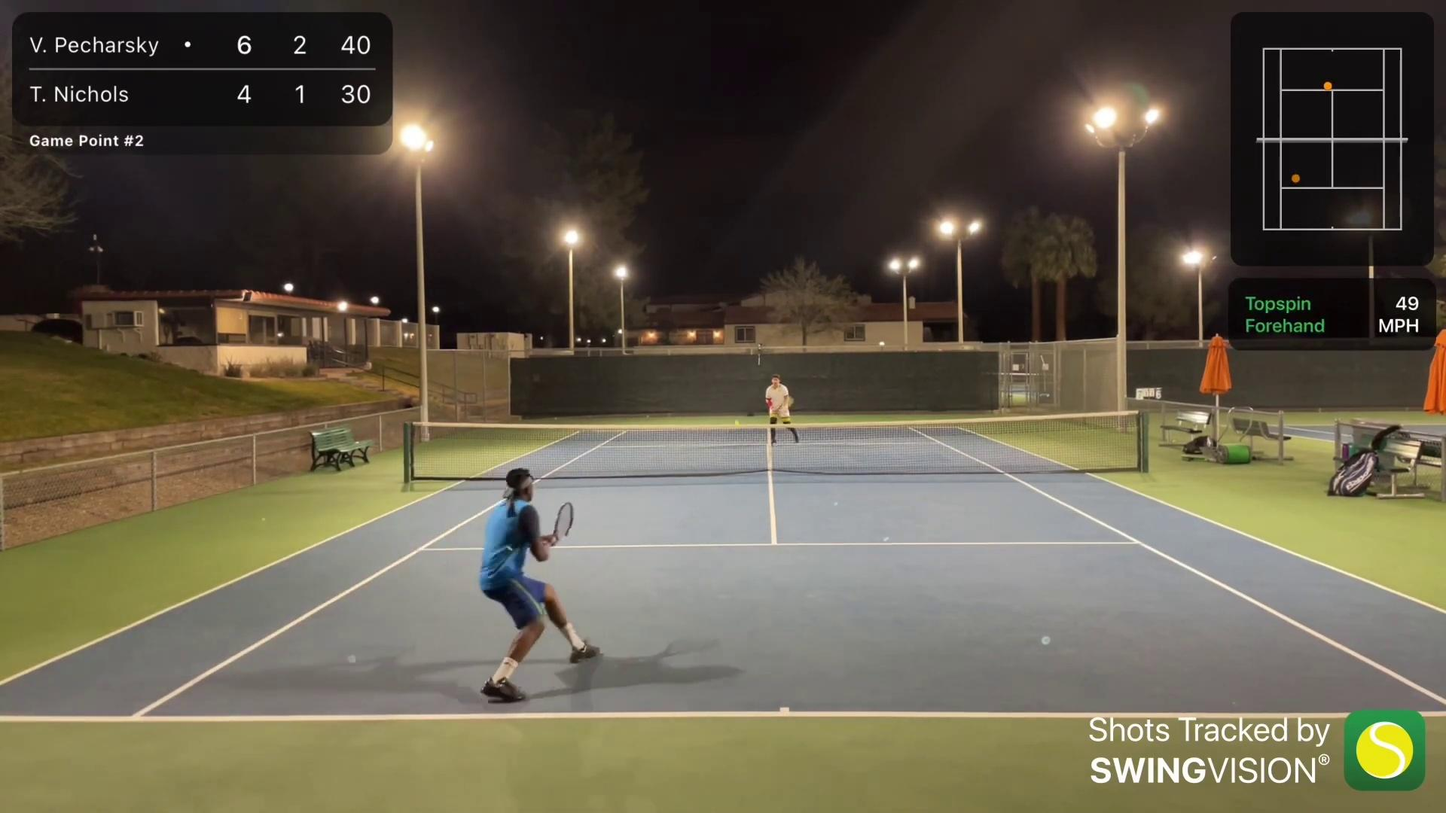ball: (732, 416, 743, 430)
